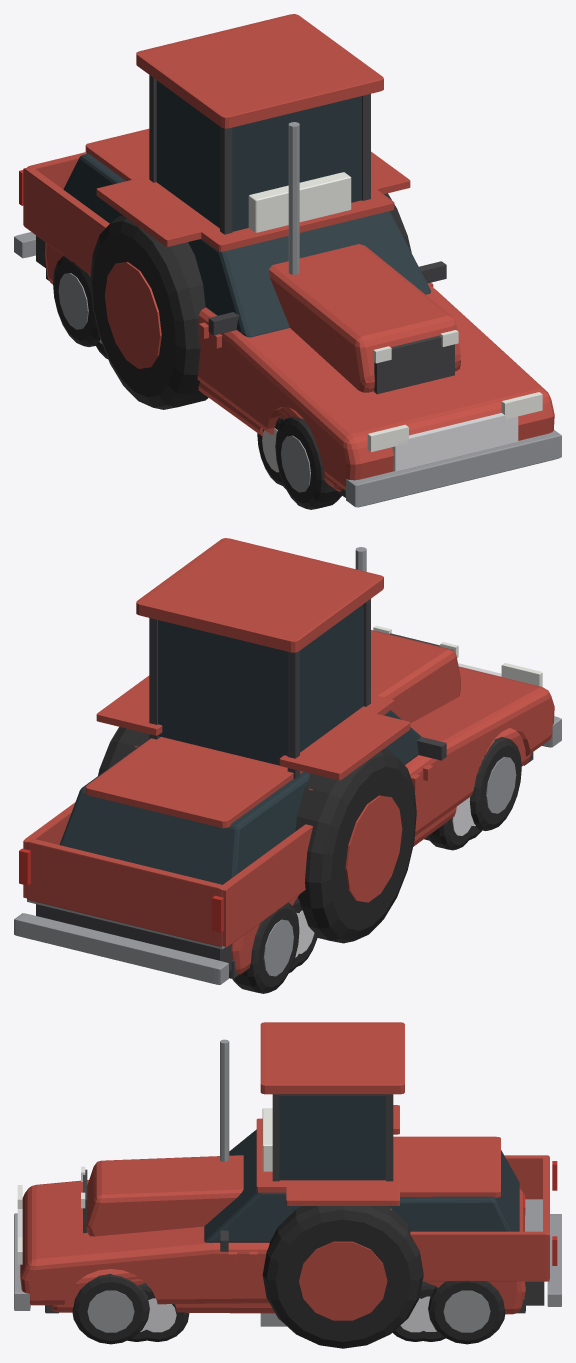
Rendered from vehicles.glb.
3 views of the same model, one above another, from view 1: azimuth 30°, elevation 25°; view 2: azimuth 150°, elevation 25°; view 3: azimuth 270°, elevation 25° (orthographic). The views are drawn at different scales.
Parts seen in each view (by area): view 1: tractor, pickup, car_wagon, fuel_pump, car_small; view 2: tractor, pickup, car_wagon, car_small; view 3: tractor, pickup, car_wagon, car_small, fuel_pump.
Boxes of the visible parts, <box> form: tractor: <box>90,14,460,409</box>; pickup: <box>14,152,561,509</box>; car_wagon: <box>45,128,433,497</box>; fuel_pump: <box>248,172,351,232</box>; car_small: <box>98,214,288,485</box>; tractor: <box>96,538,460,943</box>; pickup: <box>14,663,561,993</box>; car_wagon: <box>59,728,533,978</box>; car_small: <box>270,756,484,966</box>; tractor: <box>81,1022,423,1348</box>; pickup: <box>14,1118,561,1344</box>; car_wagon: <box>45,1136,525,1341</box>; car_small: <box>130,1251,445,1341</box>; fuel_pump: <box>260,1108,286,1326</box>.
Size of the model in its own units: 2.19 by 2.73 by 5.31.
